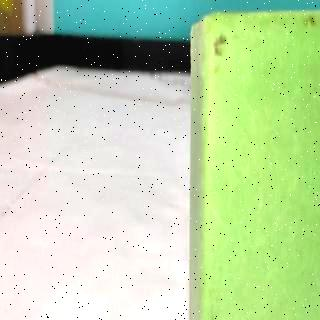greenbox: (189, 7, 320, 320)
